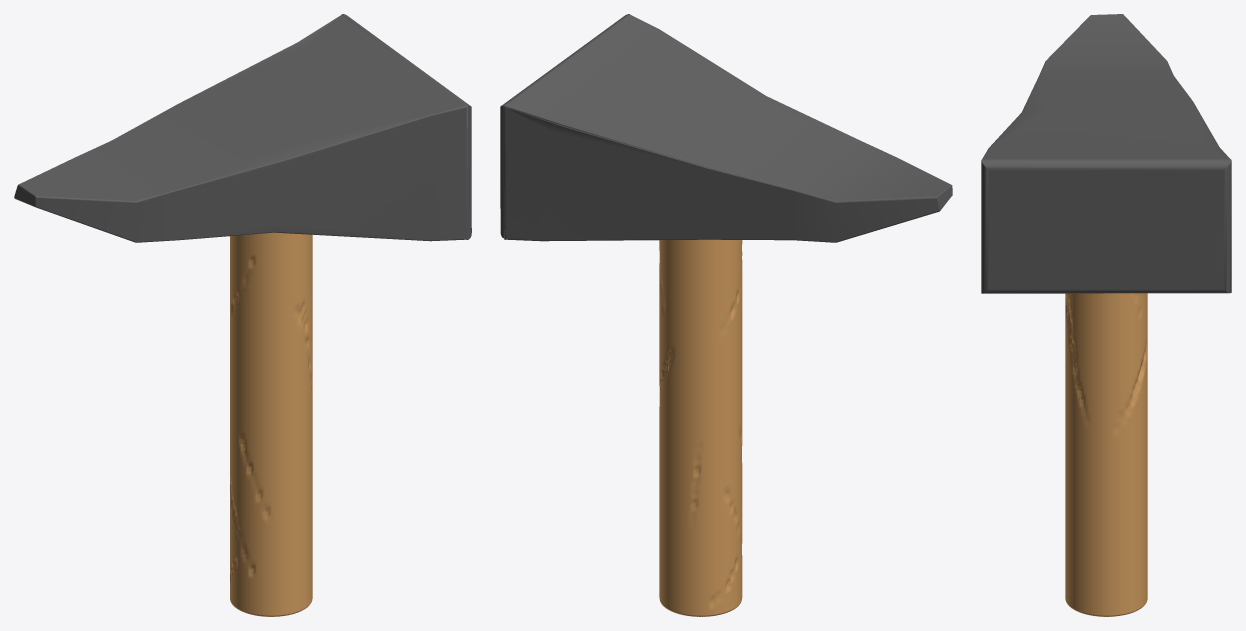
3 views of the same model, side by side, from view 1: azimuth 30°, elevation 25°; view 2: azimuth 150°, elevation 25°; view 3: azimuth 270°, elevation 25° (orthographic).
Parts seen in each view (by area): view 1: hammer; view 2: hammer; view 3: hammer.
Part boxes in pixels (box(x1,y1,x2,y2)): hammer: box(14, 14, 471, 616); hammer: box(500, 14, 952, 616); hammer: box(981, 14, 1231, 616).
Size of the model in its own units: 15.78 by 19.77 by 8.85.
